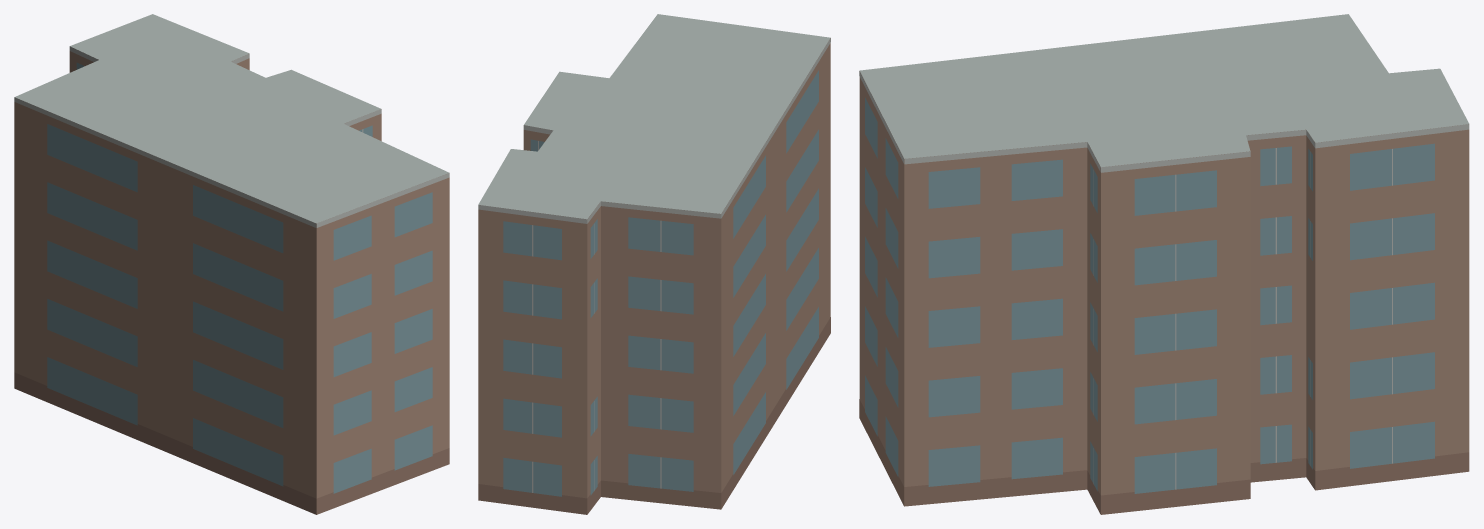
File: survey-upis-32491233.glb
3 views of the same model, side by side, from view 1: azimuth 30°, elevation 25°; view 2: azimuth 150°, elevation 25°; view 3: azimuth 270°, elevation 25° (orthographic). The views are drawn at different scales.
Parts seen in each view (by area): view 1: survey-upis-32491233.tmp; view 2: survey-upis-32491233.tmp; view 3: survey-upis-32491233.tmp.
Boxes of the visible parts, bbox=[...] form: survey-upis-32491233.tmp: bbox=[14, 14, 449, 514]; survey-upis-32491233.tmp: bbox=[478, 14, 830, 514]; survey-upis-32491233.tmp: bbox=[859, 14, 1469, 514].
Size of the model in its own units: 14.43 by 15.25 by 24.26.
